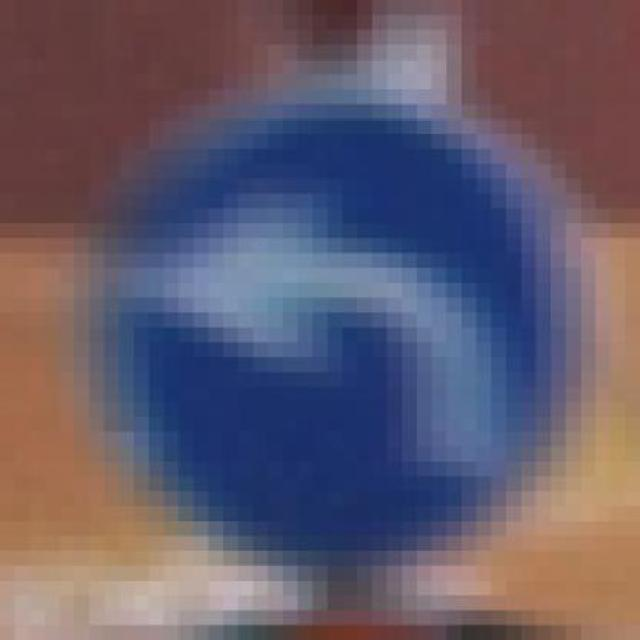Turn left ahead: (82, 59, 588, 581)
